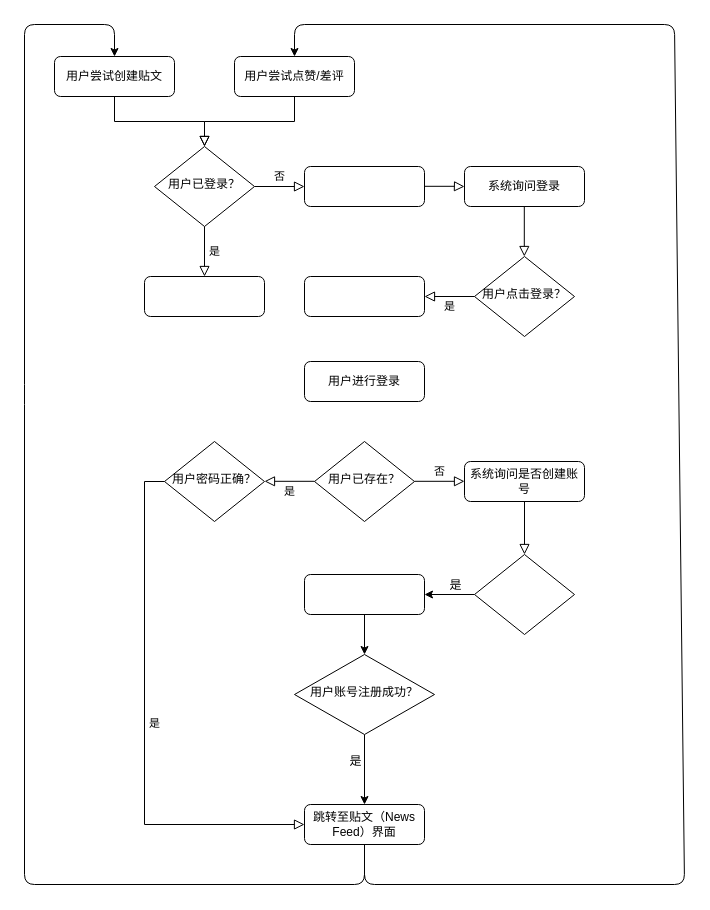
This 710x910 diagram has some shape labels left out. The centre of each missing label's shape, as x and y in pixels:
"操作失败 (status: 204)" belongs at pixel 364 186.
"操作成功 贴文状态更新" belongs at pixel 204 296.
"用户点击注册？" belongs at pixel 524 594.
"跳转至注册界面" belongs at pixel 364 594.
"跳转至登陆界面" belongs at pixel 364 296.
